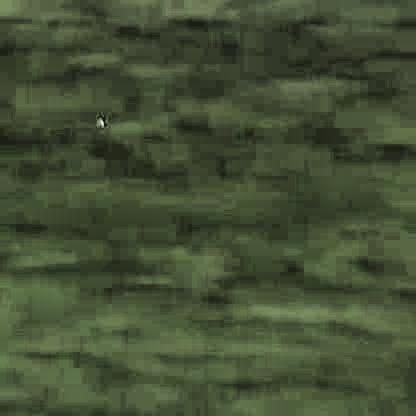golfball: (93, 113, 104, 124)
